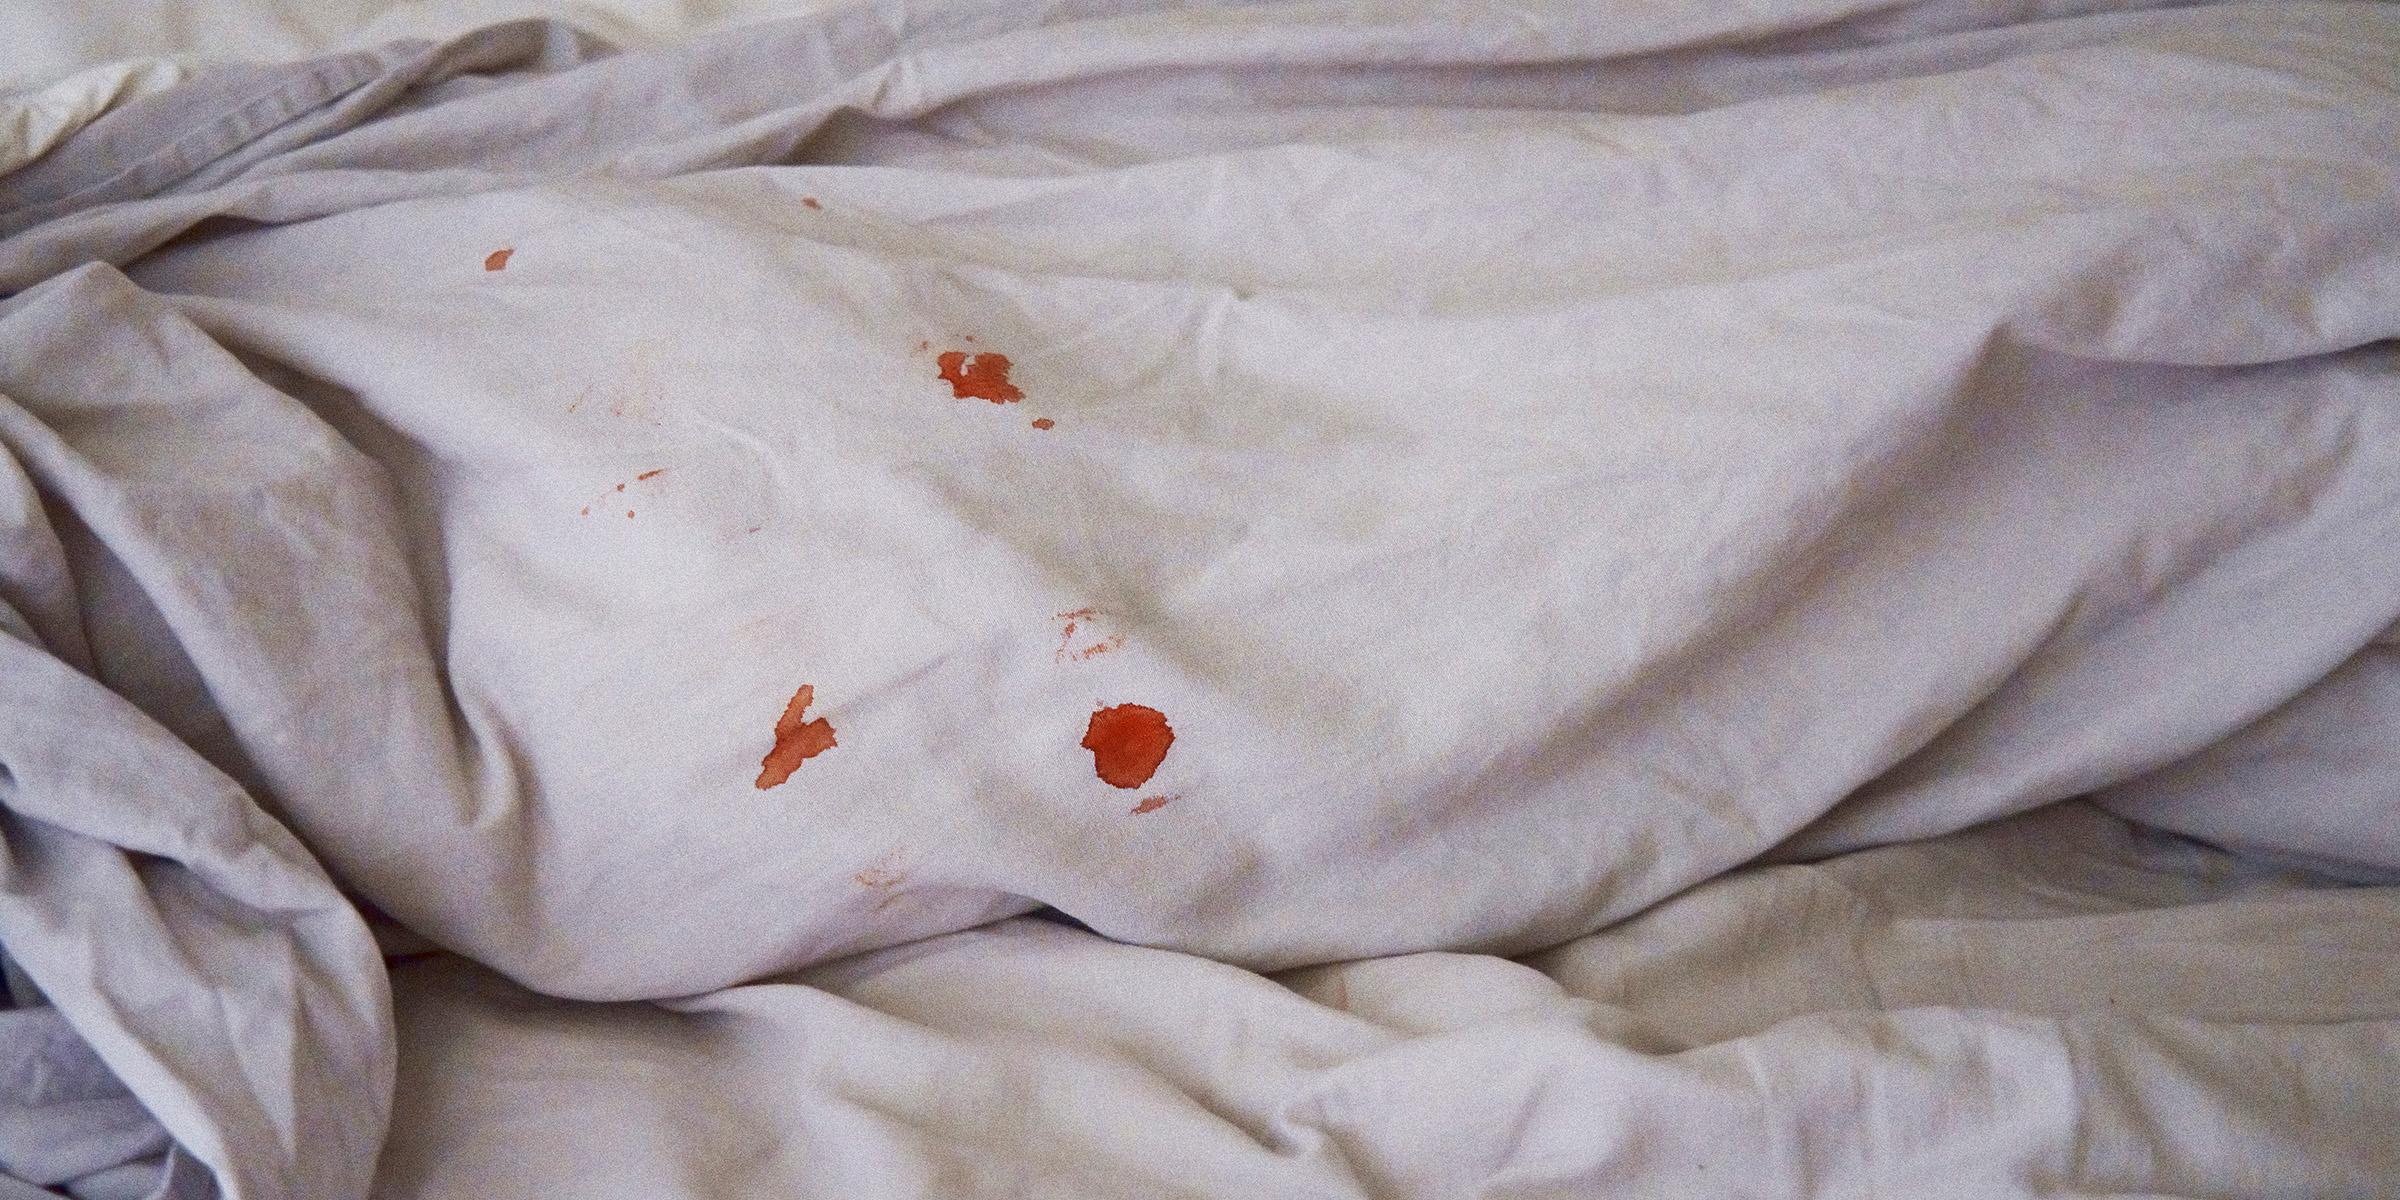gun: (921, 318, 1076, 435), (1076, 696, 1185, 830), (562, 445, 686, 534), (748, 654, 833, 784), (1055, 594, 1133, 661), (471, 223, 527, 285), (805, 182, 833, 220)
